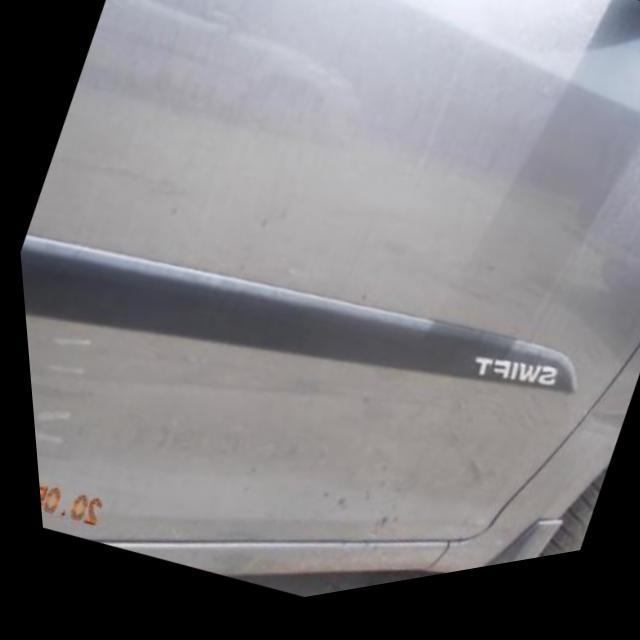scratch: (26, 325, 96, 454)
